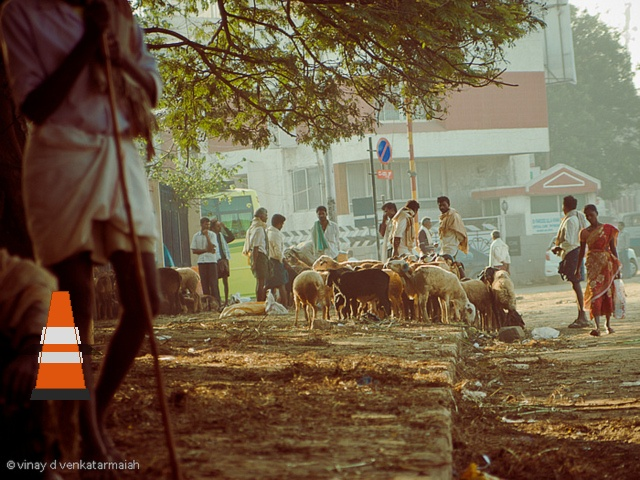traffic-cone: (30, 291, 90, 399)
